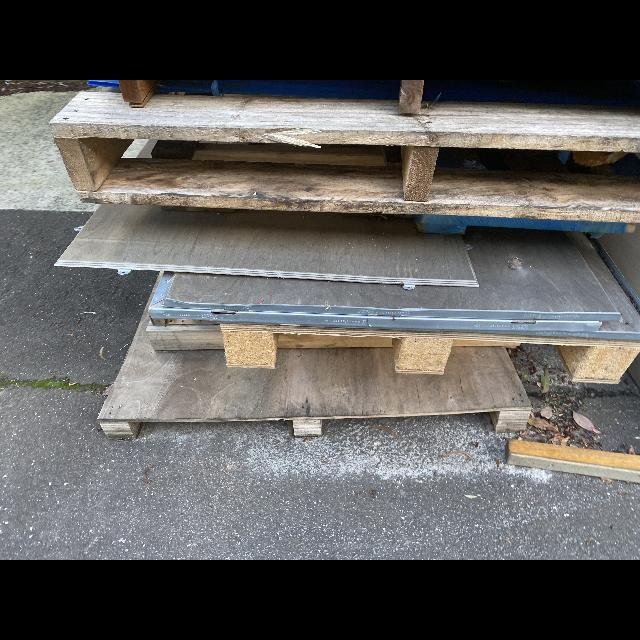Galvanized Steel: (149, 299, 640, 340), (599, 244, 640, 309), (151, 271, 173, 306)
